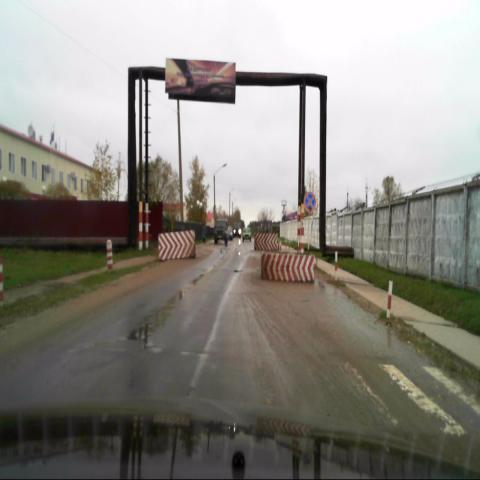3_27: (303, 192, 316, 213)
